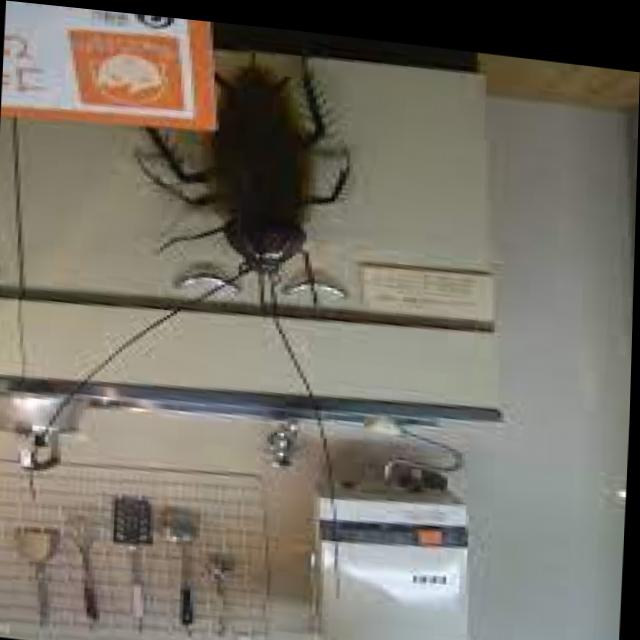Cockroach: (126, 11, 390, 386)
